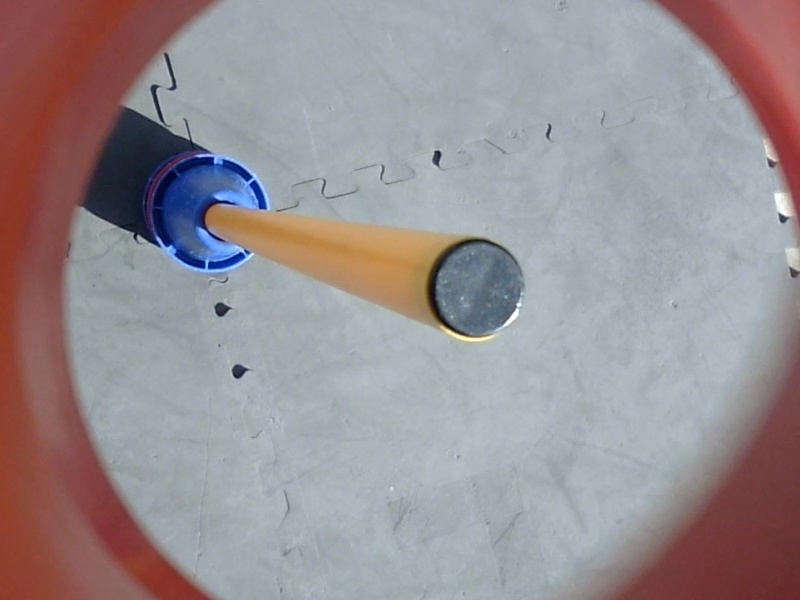tip: (419, 230, 535, 347)
